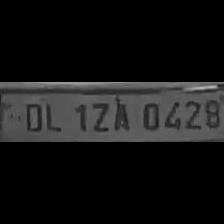0: (136, 98, 160, 132)
1: (68, 100, 88, 134)
2: (181, 96, 201, 132)
4: (161, 97, 181, 131)
8: (202, 96, 222, 130)
A: (108, 98, 134, 132)
D: (18, 99, 44, 134)
L: (42, 99, 64, 133)
Z: (89, 99, 112, 134)
